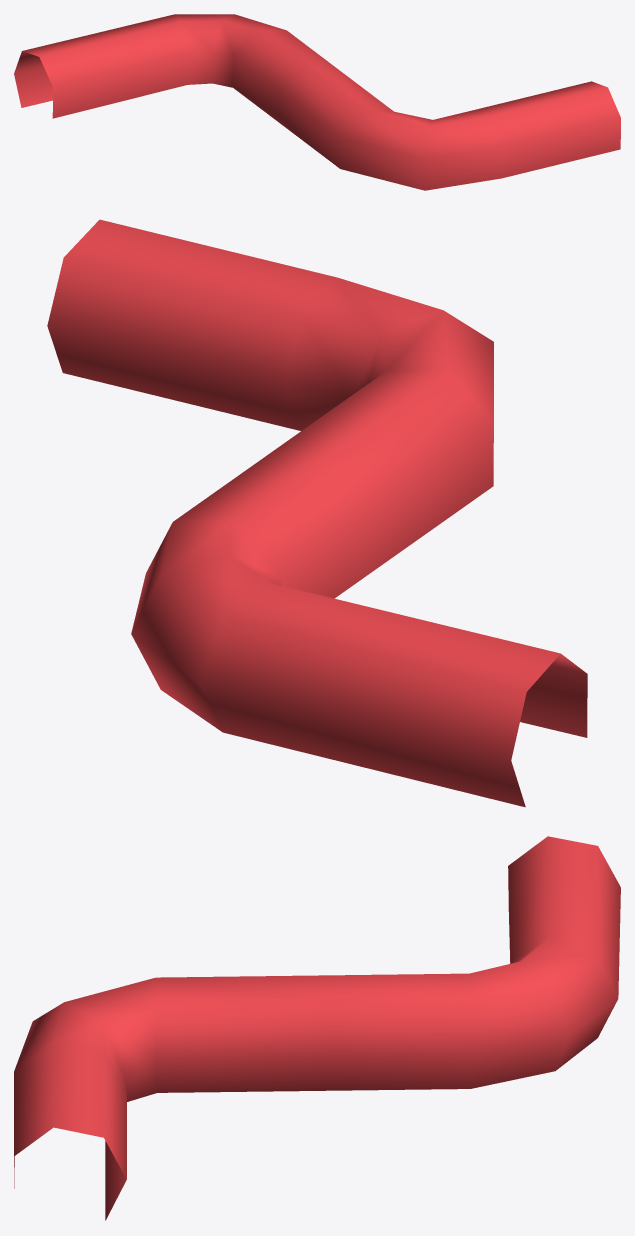
Rendered from Norris_Maze_Red_Wire_S.fbx.
The picture shows the model from 3 angles, top to bottom: view 1: azimuth 30°, elevation 25°; view 2: azimuth 150°, elevation 25°; view 3: azimuth 270°, elevation 25°; orthographic projection. The views are drawn at different scales.
Parts seen in each view (by area): view 1: WireLong1; view 2: WireLong1; view 3: WireLong1.
Boxes of the visible parts, x1,y1,x2,y2 form: WireLong1: (14, 14, 620, 190); WireLong1: (47, 219, 587, 807); WireLong1: (14, 836, 620, 1220).
Bounding box in the file's own units: 6.47 × 1.05 × 5.8.
